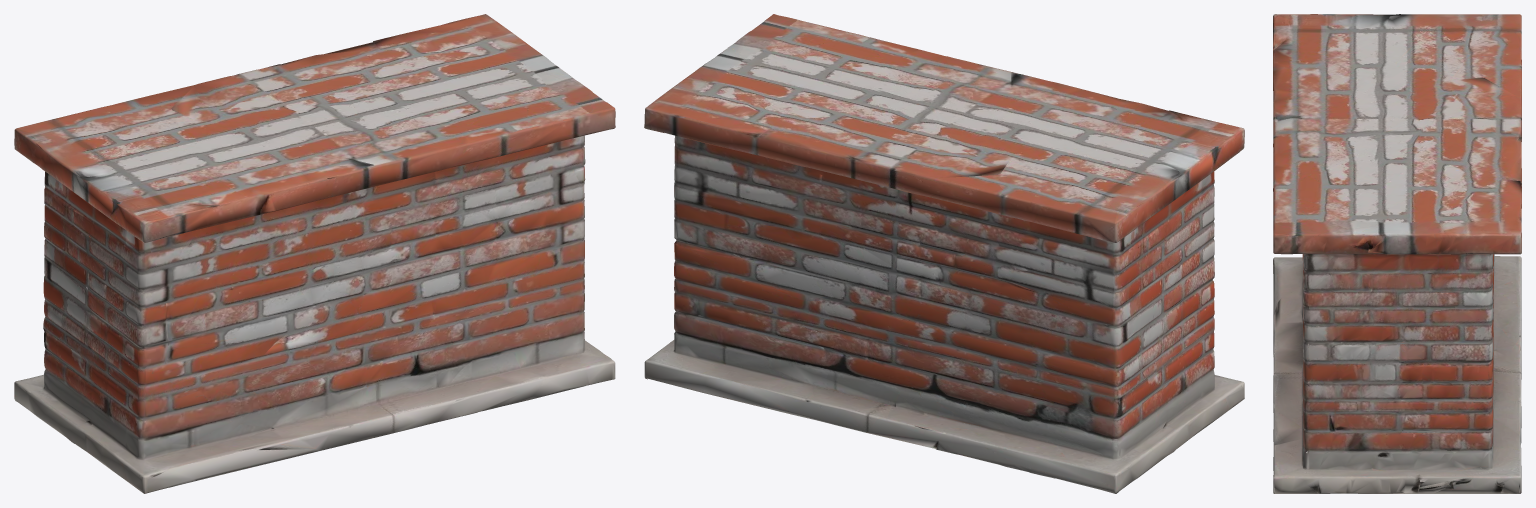
File: wall.glb
3 renders of one model, left to right at view 1: azimuth 30°, elevation 25°; view 2: azimuth 150°, elevation 25°; view 3: azimuth 270°, elevation 25°, orthographic. The views are drawn at different scales.
Size of the model in its own units: 2 by 1.1 by 0.9525.
1 material, 1 textured.
